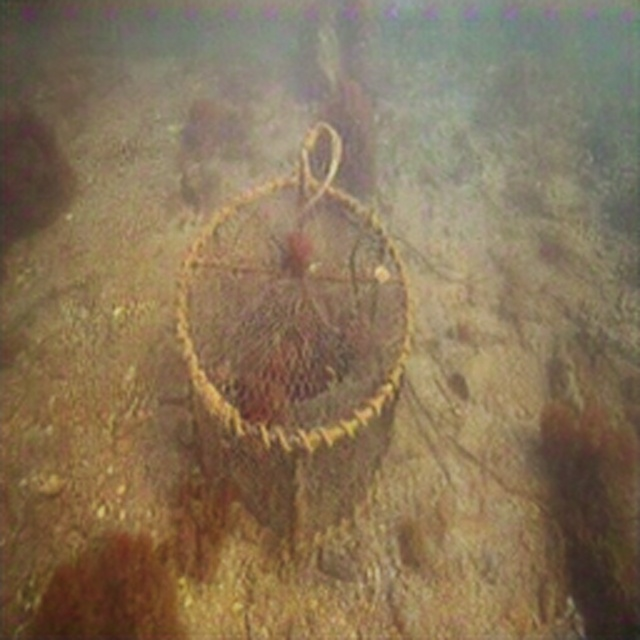mine: (174, 172, 414, 556)
